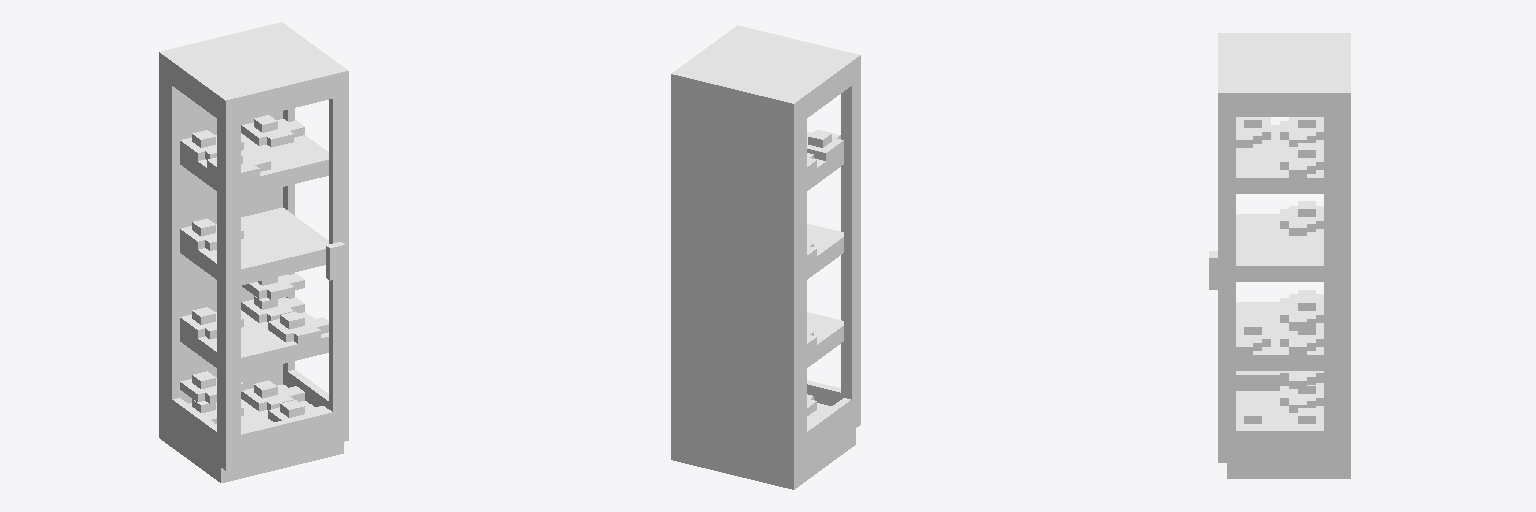
File: fullEggsShelf3.obj
3 renders of one model, left to right at view 1: azimuth 30°, elevation 25°; view 2: azimuth 150°, elevation 25°; view 3: azimuth 270°, elevation 25°, orthographic.
Visible parts, largest first — view 1: object 1; view 2: object 1; view 3: object 1.
Part boxes in pixels (bbox=[...]): object 1: bbox=[159, 22, 348, 482]; object 1: bbox=[671, 25, 860, 489]; object 1: bbox=[1209, 33, 1350, 478].
Size of the model in its own units: 1.6 by 4.8 by 1.6.